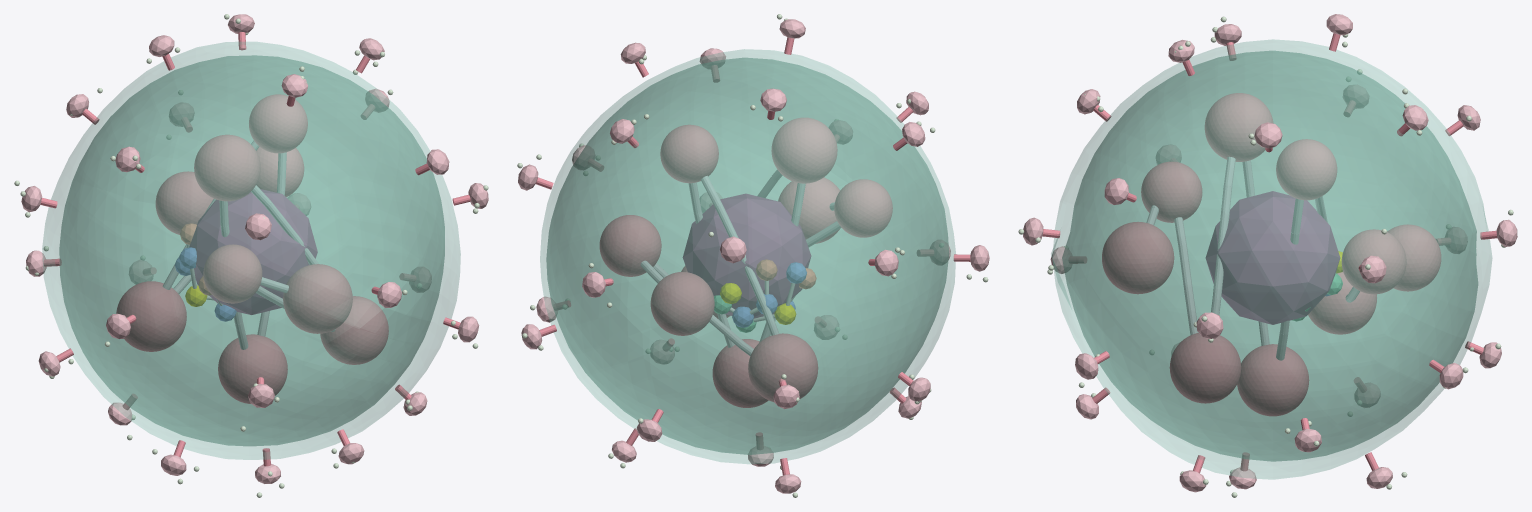
Rendered from virus_virus_ficticio_a_8280297.glb.
3 renders of one model, left to right at view 1: azimuth 30°, elevation 25°; view 2: azimuth 150°, elevation 25°; view 3: azimuth 270°, elevation 25°, orthographic. The views are drawn at different scales.
Visible parts, largest first — view 1: geometry_0, geometry_1, geometry_2, geometry_96, geometry_102, geometry_99, geometry_100, geometry_98, geometry_97, geometry_101, geometry_104, geometry_103 (+24 smaller); view 2: geometry_0, geometry_1, geometry_2, geometry_99, geometry_102, geometry_104, geometry_103, geometry_97, geometry_101, geometry_100, geometry_96, geometry_212 (+20 smaller); view 3: geometry_0, geometry_1, geometry_2, geometry_96, geometry_100, geometry_98, geometry_99, geometry_101, geometry_97, geometry_103, geometry_104, geometry_102 (+24 smaller).
Part boxes in pixels (x1,y1,x2,y2): geometry_0: [42, 42, 460, 459]; geometry_1: [59, 55, 444, 446]; geometry_2: [189, 189, 317, 314]; geometry_96: [283, 264, 352, 333]; geometry_102: [116, 281, 186, 351]; geometry_99: [194, 134, 260, 201]; geometry_100: [218, 334, 287, 403]; geometry_98: [320, 296, 388, 364]; geometry_97: [203, 244, 262, 303]; geometry_101: [249, 94, 307, 153]; geometry_104: [155, 171, 213, 234]; geometry_103: [256, 147, 304, 196]; geometry_0: [540, 49, 955, 463]; geometry_1: [546, 57, 949, 454]; geometry_2: [682, 193, 811, 318]; geometry_99: [771, 117, 837, 183]; geometry_102: [748, 333, 818, 401]; geometry_104: [650, 272, 714, 335]; geometry_103: [599, 215, 661, 276]; geometry_97: [834, 179, 892, 237]; geometry_101: [660, 124, 718, 183]; geometry_100: [712, 339, 768, 407]; geometry_96: [778, 177, 839, 243]; geometry_212: [760, 88, 786, 119]; geometry_0: [1051, 39, 1492, 479]; geometry_1: [1062, 50, 1478, 461]; geometry_2: [1205, 191, 1340, 324]; geometry_96: [1102, 222, 1174, 294]; geometry_100: [1237, 344, 1309, 416]; geometry_98: [1169, 333, 1241, 403]; geometry_99: [1204, 93, 1273, 161]; geometry_101: [1276, 139, 1337, 200]; geometry_97: [1141, 161, 1202, 222]; geometry_103: [1341, 229, 1406, 294]; geometry_104: [1387, 224, 1441, 291]; geometry_102: [1308, 272, 1376, 334].
Bounding box in the file's own units: 13.28 × 13.89 × 13.76.
